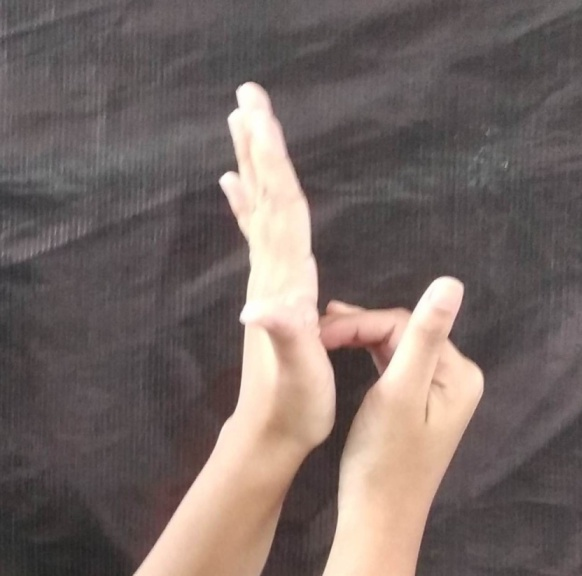ga: (187, 72, 486, 498)
